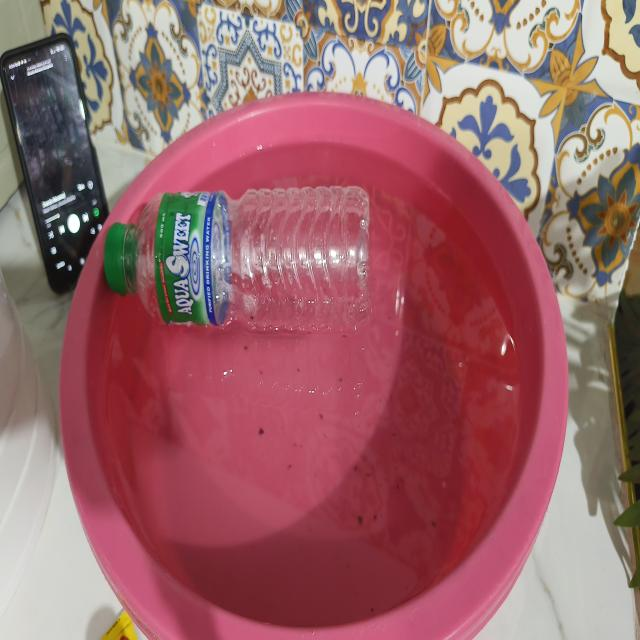Plastic Bottle: (104, 187, 405, 333)
